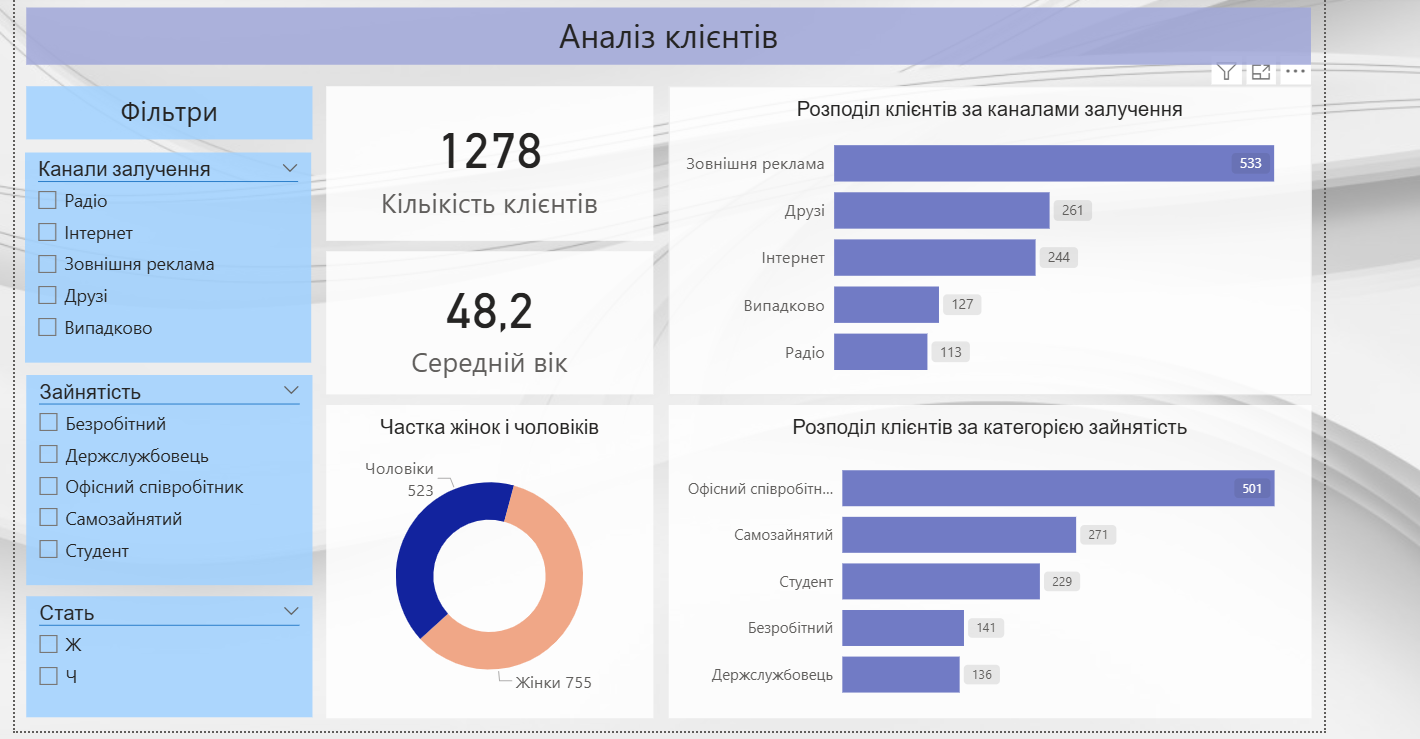

This screenshot's page, from the dashboard's own definition file:
{"tool":"powerbi","page":{"name":"Аналіз покупців","canvas":[1280,720],"ordinal":0},"visuals":[{"type":"donutChart","title":"Частка жінок і чоловіків","fields":{"Y":["Клієнти.Кількість жінок","Міри.Чоловіки"]},"box":[304.6,400.7,319.7,306],"z":0},{"type":"clusteredBarChart","title":"Розподіл клієнтів за категорією зайнятість","fields":{"Category":["Клієнти.Зайнятість"],"Y":["Клієнти.Кільікість клієнтів"]},"box":[639.5,400.7,628.5,306],"z":1000},{"type":"card","fields":{"Values":["Клієнти.Кільікість клієнтів"]},"box":[304.6,89.2,319.7,150.9],"z":2000},{"type":"card","fields":{"Values":["Клієнти.Середній вік"]},"box":[304.6,251.1,319.7,140],"z":3000},{"type":"clusteredBarChart","title":"Розподіл клієнтів за каналами залучення","fields":{"Y":["Клієнти.Кільікість клієнтів"],"Category":["Клієнти.Канал залучення"]},"box":[639.5,89.2,628.5,301.9],"z":4000},{"type":"textbox","box":[11,12.2,1257.1,56.3],"z":5000},{"type":"slicer","fields":{"Values":["Клієнти.Канал залучення"]},"box":[10,153.7,279.9,205.8],"z":6000},{"type":"textbox","box":[11,89.2,279.9,52.1],"z":7000},{"type":"slicer","fields":{"Values":["Клієнти.Зайнятість"]},"box":[11,371.9,279.9,205.8],"z":8000},{"type":"slicer","fields":{"Values":["Клієнти.Стать"]},"box":[11,588.7,279.9,118],"z":9000}]}

Visuals, with their boxes on the page's 1280x720 design canvas (x1, y1, x2, y2). These are canvas units, not pixel positions in the 1420x739 screenshot, which may show the page scaled, cropped or inside an application window:
"Частка жінок і чоловіків" donutChart: 305/401/624/707
"Розподіл клієнтів за категорією зайнятість" clusteredBarChart: 640/401/1268/707
card - Клієнти.Кільікість клієнтів: 305/89/624/240
card - Клієнти.Середній вік: 305/251/624/391
"Розподіл клієнтів за каналами залучення" clusteredBarChart: 640/89/1268/391
textbox: 11/12/1268/68
slicer - Клієнти.Канал залучення: 10/154/290/360
textbox: 11/89/291/141
slicer - Клієнти.Зайнятість: 11/372/291/578
slicer - Клієнти.Стать: 11/589/291/707
